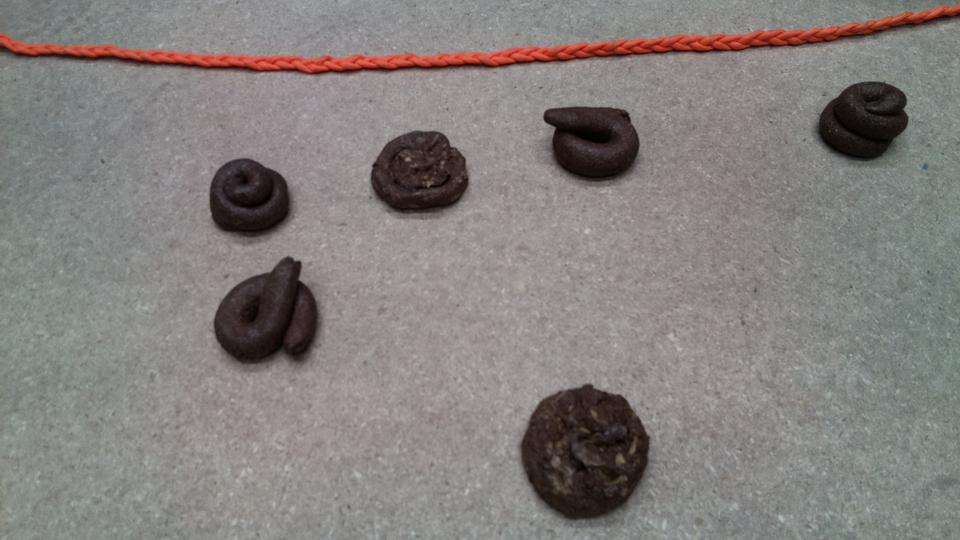poop: (520, 382, 654, 523), (211, 253, 320, 365), (368, 126, 473, 216), (816, 78, 912, 165), (542, 101, 642, 181), (207, 156, 293, 236)
rope: (1, 2, 960, 75)
